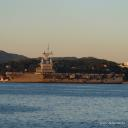Portanaves: (6, 43, 125, 85)
